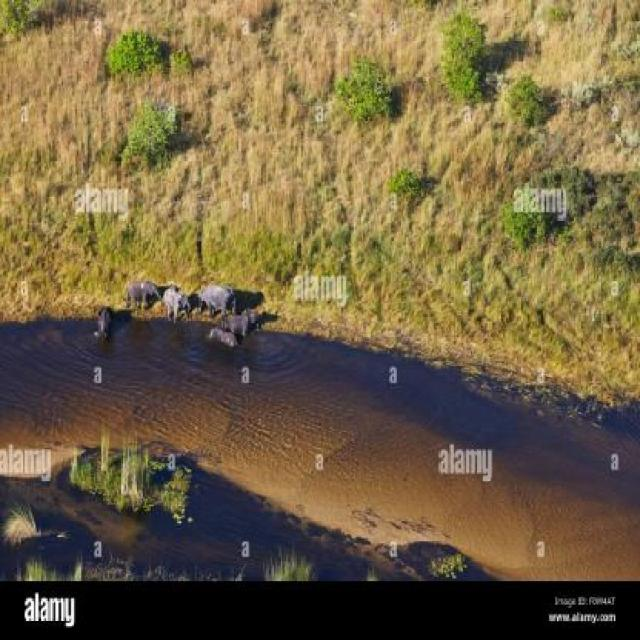elephant: (201, 272, 250, 308), (130, 262, 158, 318), (83, 302, 117, 340), (162, 276, 187, 327), (231, 301, 269, 334), (207, 323, 236, 351)
